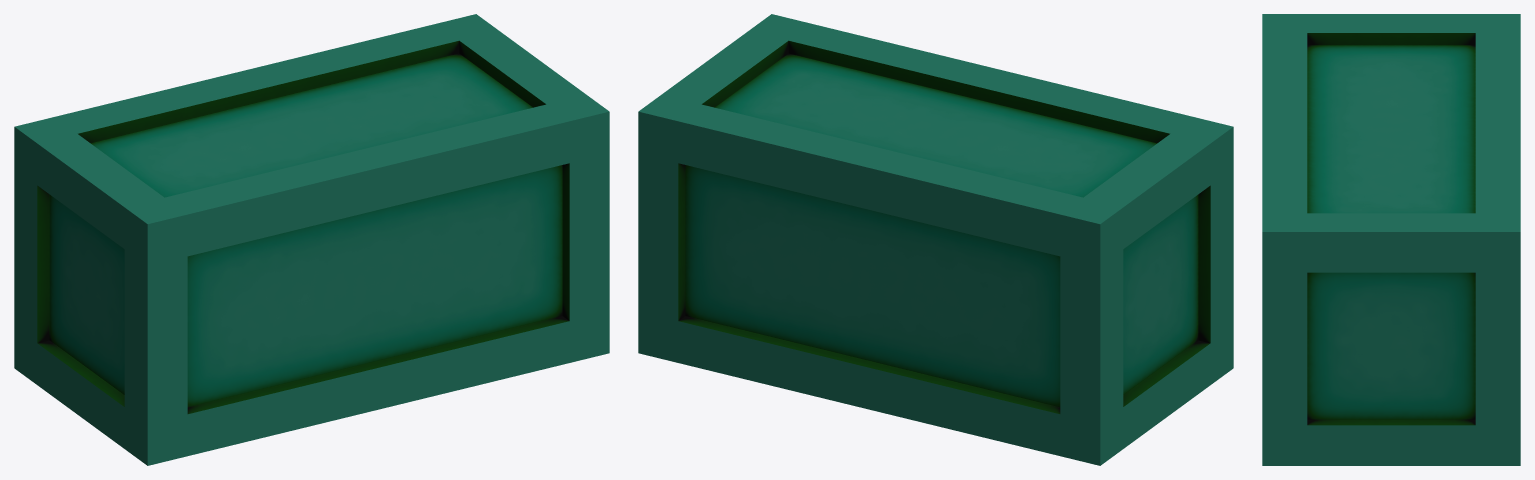
3 views of the same model, side by side, from view 1: azimuth 30°, elevation 25°; view 2: azimuth 150°, elevation 25°; view 3: azimuth 270°, elevation 25° (orthographic). The views are drawn at different scales.
Parts seen in each view (by area): view 1: box01_geo; view 2: box01_geo; view 3: box01_geo.
Part boxes in pixels (<box>): box01_geo: <box>14,14,609,465</box>; box01_geo: <box>638,14,1233,465</box>; box01_geo: <box>1262,14,1520,465</box>.
Size of the model in its own units: 200 by 100 by 100.
1 material, 1 textured.
